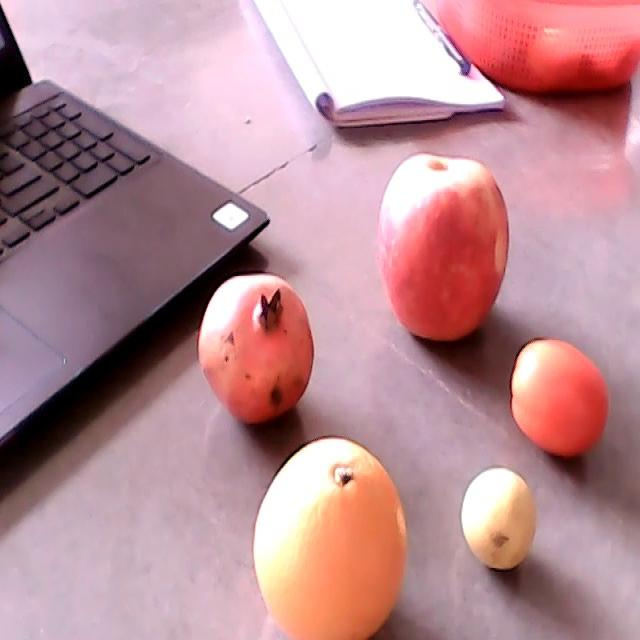apple: (379, 154, 512, 343)
lemon: (460, 464, 535, 569)
orange: (253, 439, 410, 634)
pomegranate: (198, 274, 313, 422)
tomato: (511, 338, 608, 456)
